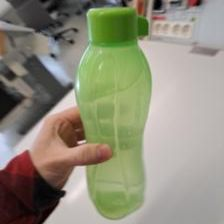bottle: (66, 6, 158, 219)
